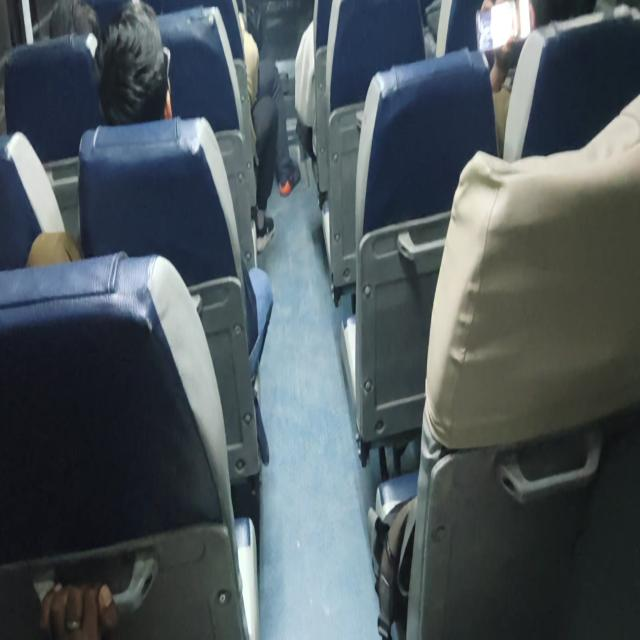person: (94, 1, 274, 464), (26, 0, 173, 266), (164, 1, 300, 252), (238, 12, 302, 197), (95, 0, 173, 126), (39, 579, 119, 638)
